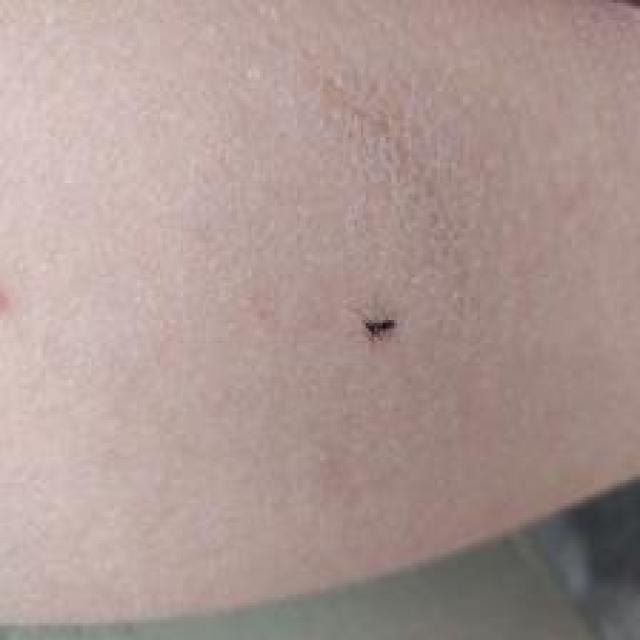Aedes albopictus: (361, 316, 396, 341)
